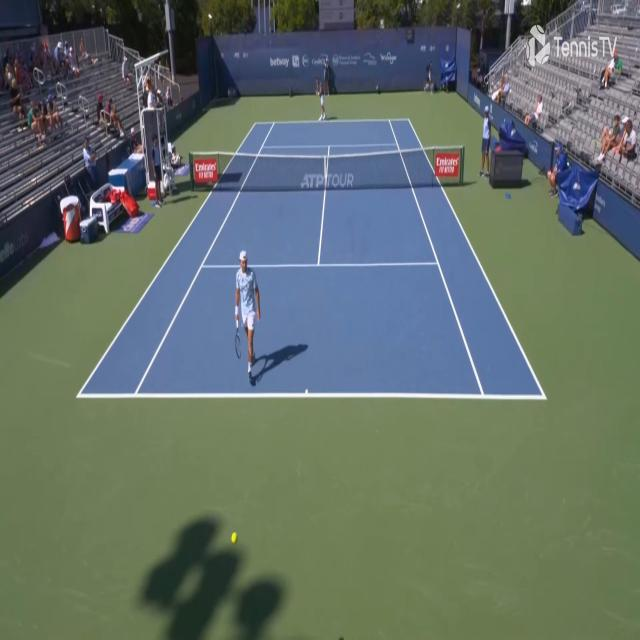tennis-player: (233, 246, 262, 387), (315, 74, 335, 123)
